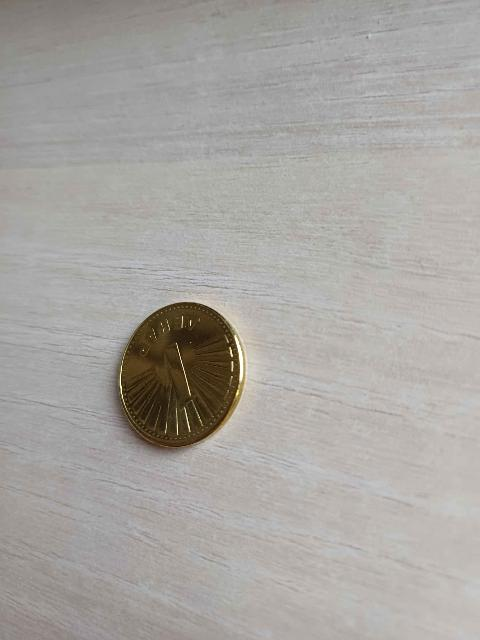1_coin: (119, 302, 248, 447)
